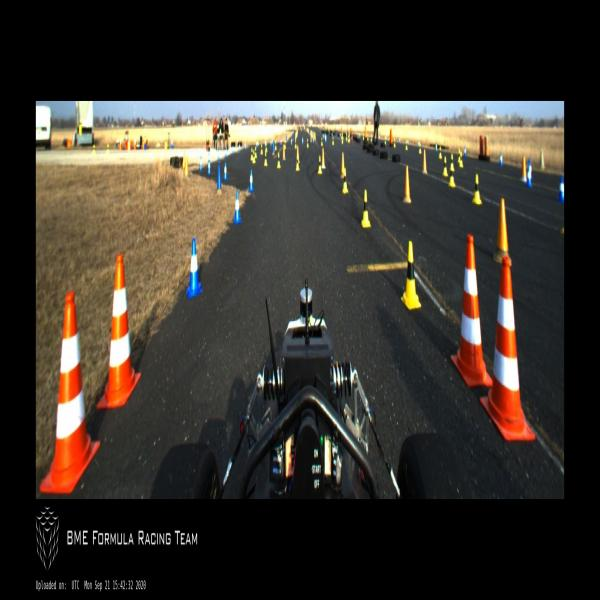blue_cone: (186, 237, 202, 297), (234, 189, 241, 223), (558, 176, 564, 202), (248, 169, 254, 192), (526, 165, 532, 188), (528, 158, 533, 180), (223, 161, 228, 181), (499, 151, 503, 166), (208, 159, 211, 174), (217, 148, 220, 160), (398, 136, 401, 146), (200, 156, 202, 170), (406, 137, 409, 146), (435, 141, 437, 153), (301, 136, 304, 144), (464, 146, 466, 157), (225, 146, 227, 157), (232, 144, 234, 154), (238, 142, 240, 152), (418, 139, 420, 149), (244, 141, 246, 150)
large_orange_cone: (39, 293, 100, 493), (480, 255, 535, 441), (97, 252, 142, 411), (451, 235, 494, 388)
yellow_cone: (401, 240, 421, 308), (362, 189, 370, 226), (473, 173, 481, 205), (449, 164, 455, 188), (342, 169, 348, 192), (444, 156, 448, 176), (318, 156, 322, 173), (450, 154, 454, 171), (296, 154, 300, 170), (252, 149, 256, 163), (264, 151, 267, 166), (460, 151, 463, 166), (439, 144, 442, 159), (458, 149, 461, 163), (264, 142, 268, 152), (294, 138, 297, 150), (393, 137, 396, 148), (320, 136, 323, 147), (306, 137, 309, 148), (274, 140, 277, 151), (278, 153, 280, 169), (251, 148, 253, 161), (347, 135, 350, 143), (260, 143, 262, 154), (419, 143, 421, 154), (406, 140, 408, 151), (384, 135, 386, 146), (332, 136, 334, 146), (341, 136, 343, 144), (367, 133, 369, 141), (255, 144, 256, 159), (370, 134, 372, 141)
